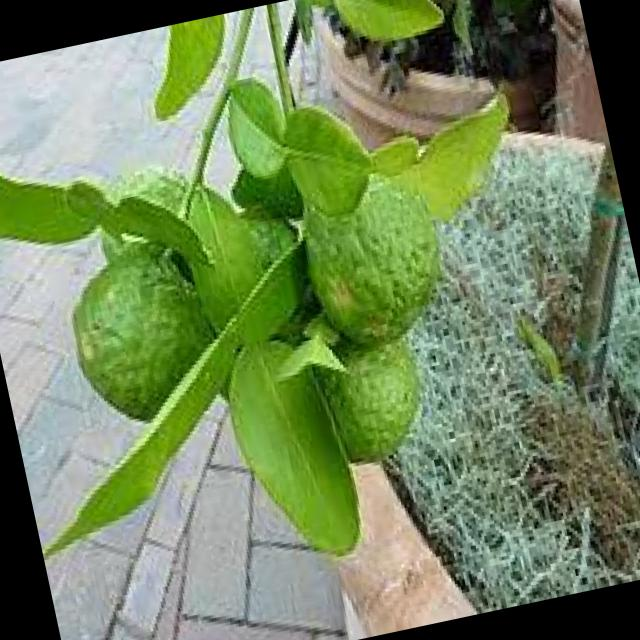Chuc: (54, 230, 225, 432), (287, 160, 457, 354), (301, 322, 434, 472)
